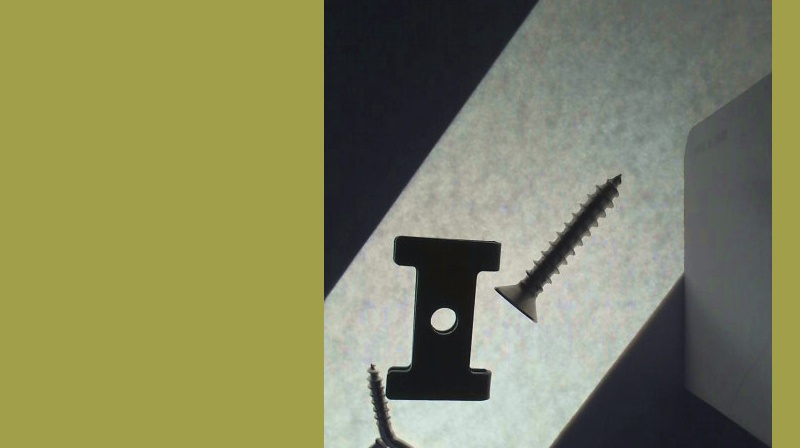O001: (354, 362, 429, 447)
O002: (387, 233, 501, 404)
S001: (494, 172, 627, 323)
